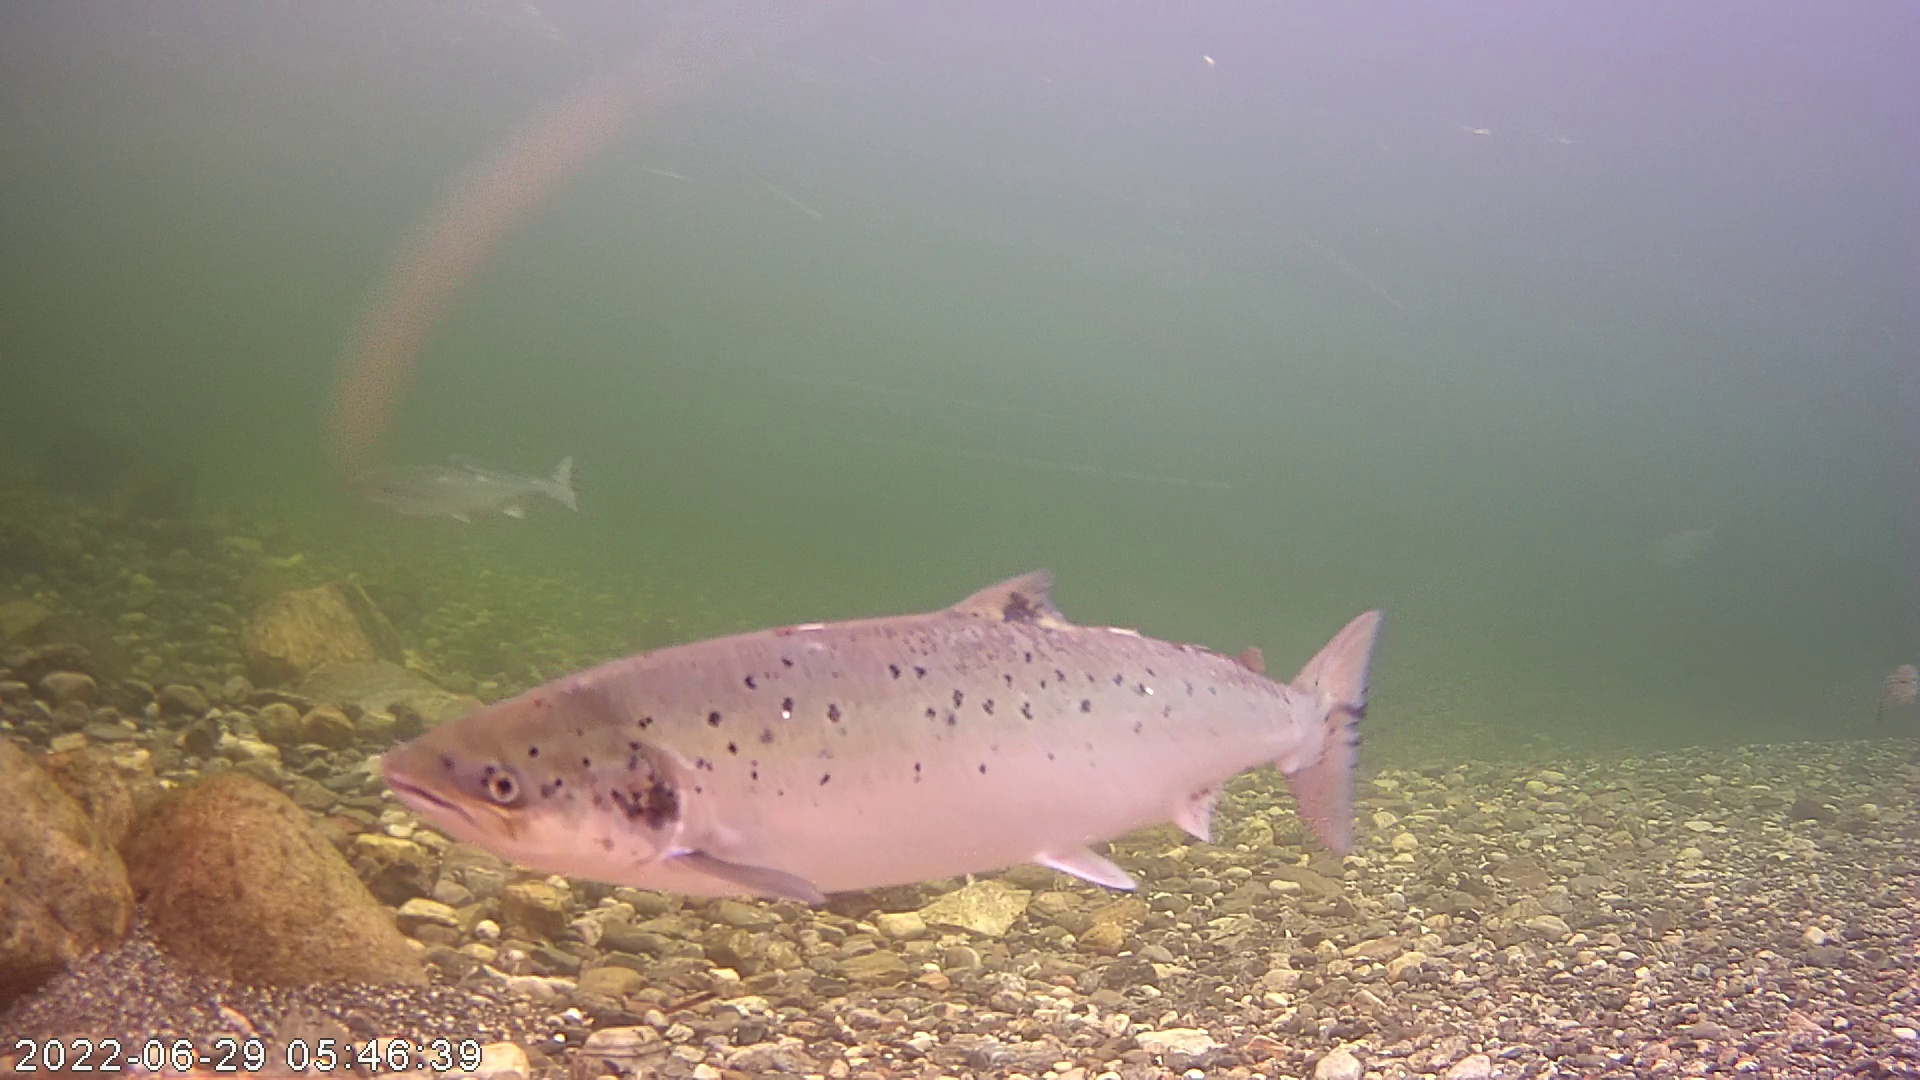salmon: (419, 480, 1394, 913)
